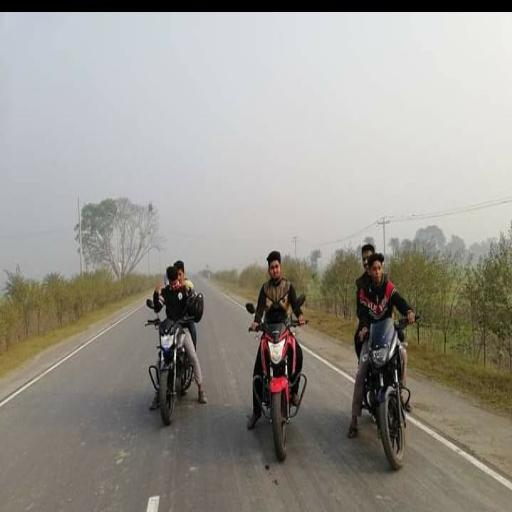overloading: (138, 235, 427, 474)
